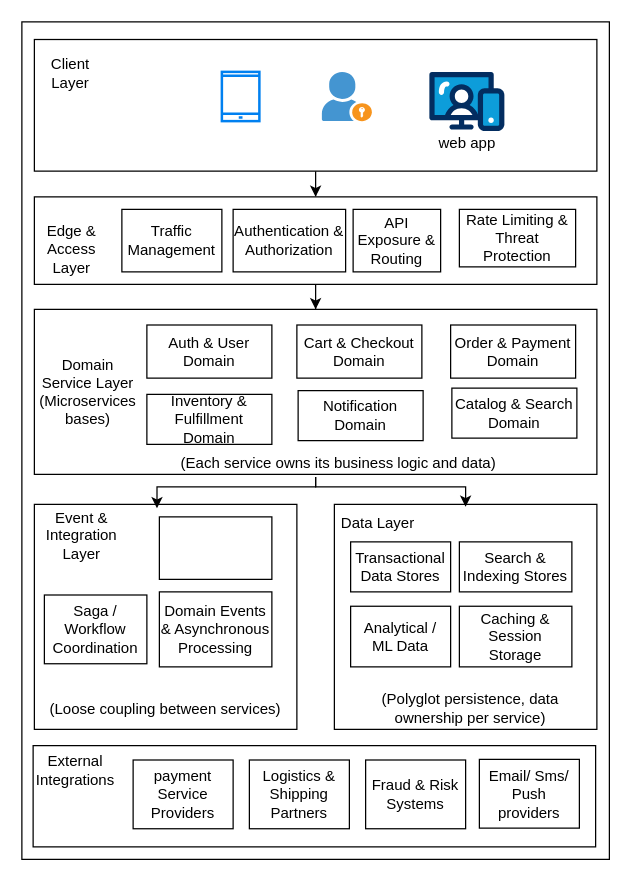
Image size: 631x881. Some labels were removed from this diagram. Here are the shapes that lost their labels. From the top down, the box of each, then its label:
(220, 70, 260, 122): mobile
(321, 71, 371, 120): admin
(158, 516, 272, 579): Event-Driven Communication
